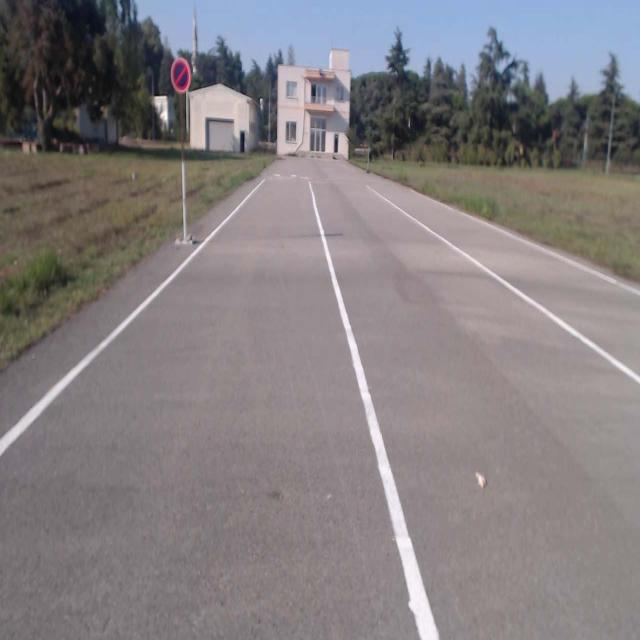parkyasak: (169, 56, 192, 94)
